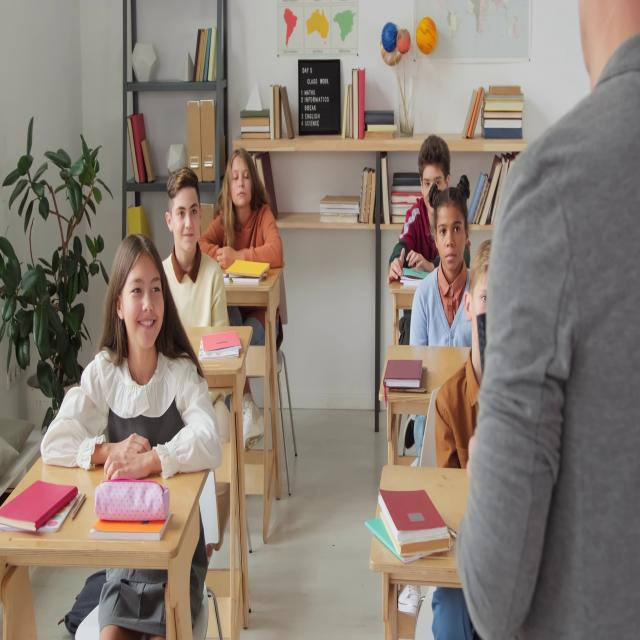listening: (44, 236, 225, 477), (200, 148, 283, 358), (409, 175, 493, 345), (433, 244, 490, 470), (386, 134, 470, 284), (161, 168, 232, 338)
